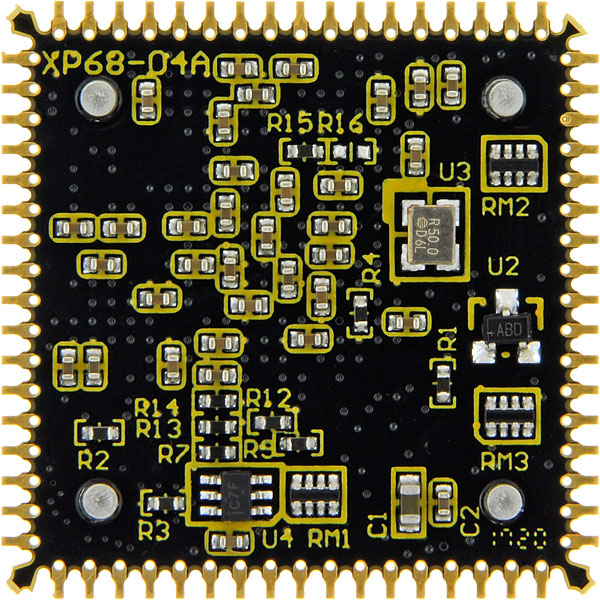capacitor C1: (391, 470, 425, 537)
capacitor C2: (431, 481, 454, 527)
component text" "R50.0 D6L: (412, 215, 443, 259)
component text" ABD: (493, 319, 524, 339)
component text" C7F: (226, 480, 243, 511)
connector unknown: (555, 50, 600, 553), (1, 47, 44, 553), (46, 1, 555, 43), (46, 558, 551, 600)
ic U2: (466, 287, 543, 368)
ic U3: (390, 186, 469, 280)
ic U4: (189, 465, 283, 525)
pads R16: (331, 139, 378, 165)
resistor R1: (432, 359, 456, 407)
resistor R12: (250, 412, 297, 433)
resistor R13: (193, 417, 240, 439)
resistor R14: (196, 390, 241, 412)
resistor R15: (279, 139, 324, 163)
resistor R2: (77, 421, 124, 445)
resistor R3: (143, 490, 187, 514)
resistor R4: (348, 290, 371, 337)
resistor R7: (193, 443, 240, 461)
resistor R9: (275, 434, 320, 456)
resistor network" RM1: (286, 468, 346, 520)
resistor network" RM2: (482, 137, 545, 192)
resistor network" RM3: (476, 389, 539, 446)
text "XP68-04A: (40, 46, 214, 80)
text 1720: (489, 523, 552, 557)
text C1: (362, 506, 388, 546)
text C2: (462, 502, 482, 539)
text R1: (437, 323, 458, 352)
text R12: (240, 386, 296, 413)
text R13: (134, 417, 182, 442)
text R14: (133, 395, 183, 418)
text R15: (266, 108, 314, 136)
text R16: (318, 110, 366, 137)
text R2: (74, 446, 109, 475)
text R3: (134, 517, 173, 545)
text R4: (358, 249, 383, 286)
text R7: (152, 440, 188, 469)
text R9: (243, 438, 274, 462)
text RM1: (306, 523, 353, 552)
text RM2: (478, 192, 529, 222)
text RM3: (477, 450, 529, 479)
text U2: (485, 254, 524, 282)
text U3: (435, 156, 473, 186)
text U4: (262, 525, 295, 549)
unknown: (79, 484, 124, 524), (484, 79, 526, 121), (77, 80, 120, 121), (190, 361, 238, 392), (404, 62, 432, 115), (208, 97, 237, 145), (384, 307, 432, 336), (485, 484, 523, 520), (78, 250, 125, 279), (225, 290, 270, 319), (273, 55, 318, 83), (51, 214, 96, 242), (97, 217, 145, 243), (439, 62, 464, 111), (158, 340, 184, 387), (211, 158, 256, 185), (308, 242, 353, 269), (196, 330, 241, 357), (163, 213, 209, 239), (283, 326, 332, 350), (368, 77, 393, 124), (218, 245, 241, 296), (53, 344, 79, 389), (134, 286, 179, 312), (134, 77, 159, 123), (216, 55, 260, 81), (207, 530, 254, 554), (83, 343, 106, 392), (308, 274, 333, 319), (276, 258, 301, 302), (174, 251, 218, 276), (402, 133, 428, 175), (316, 175, 361, 198), (231, 85, 277, 107), (256, 214, 278, 259), (215, 192, 238, 235), (273, 171, 297, 212), (310, 215, 352, 237)
